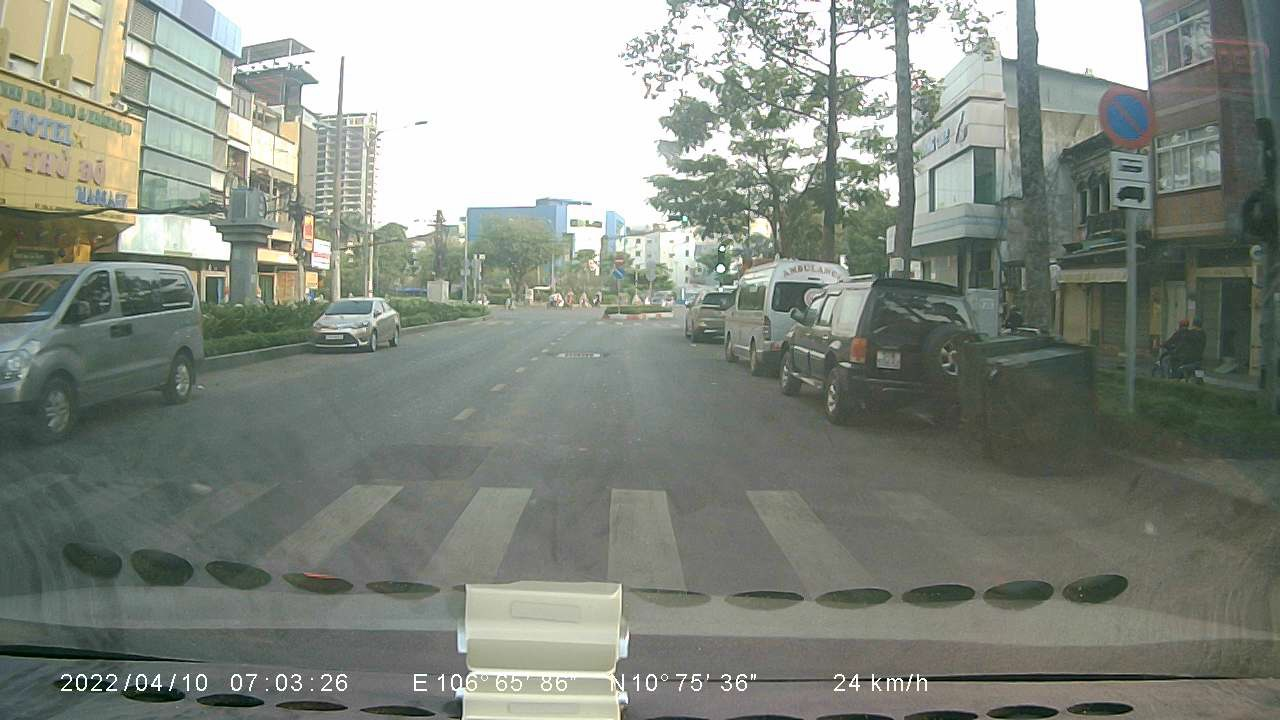Cam do xe: (1097, 82, 1162, 149)
